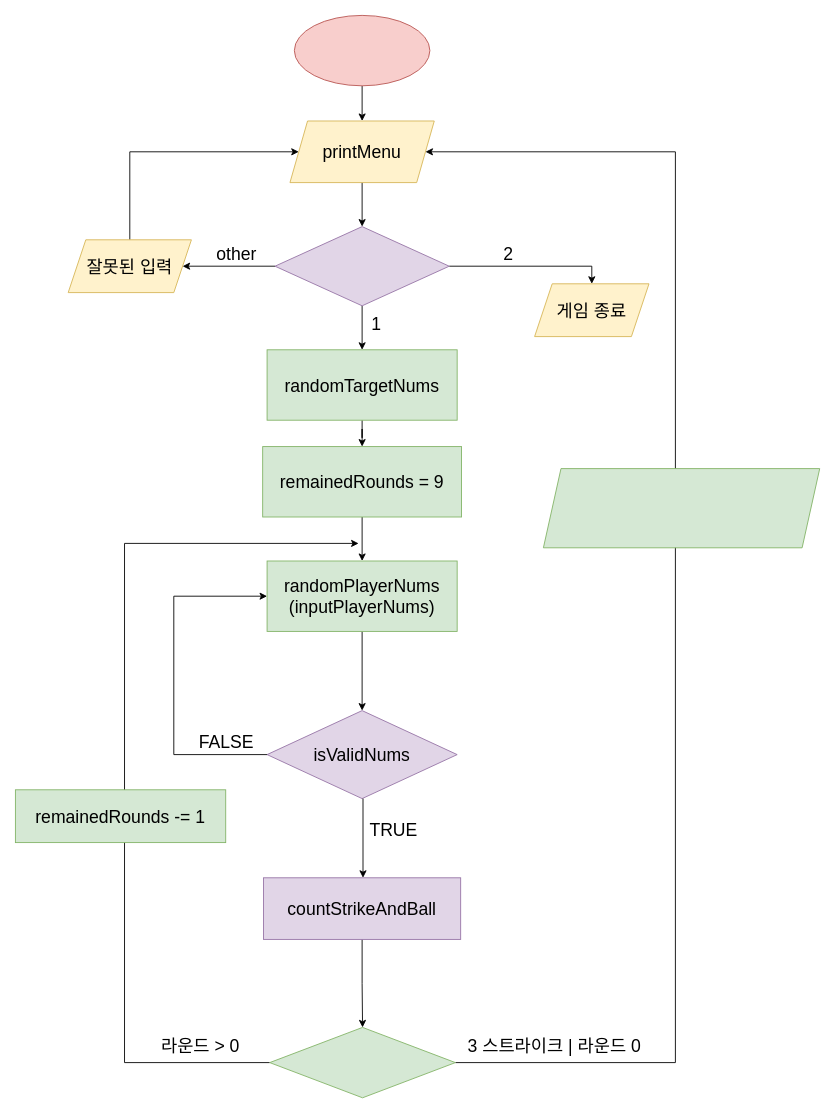
This 835x1113 diagram has some shape labels left out. Here are the shapes that lost their labels. From the top down, the centre of each, then its label:
point (361, 50): playBaseballGame
point (361, 266): selectMenu
point (681, 508): strike = 3 -> print("플레이어 승리") remainedRounds = 0 -> print("컴퓨터 승리")
point (362, 1062): gameResult
